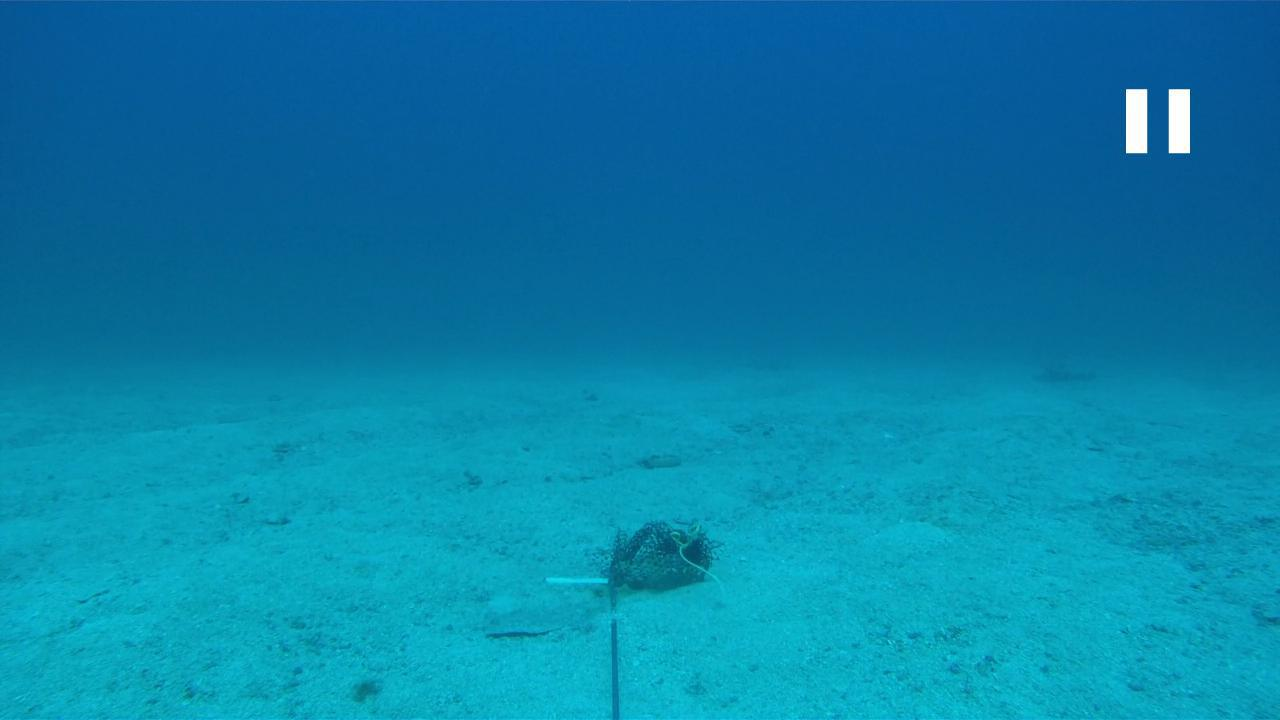bothus: (480, 602, 566, 642)
